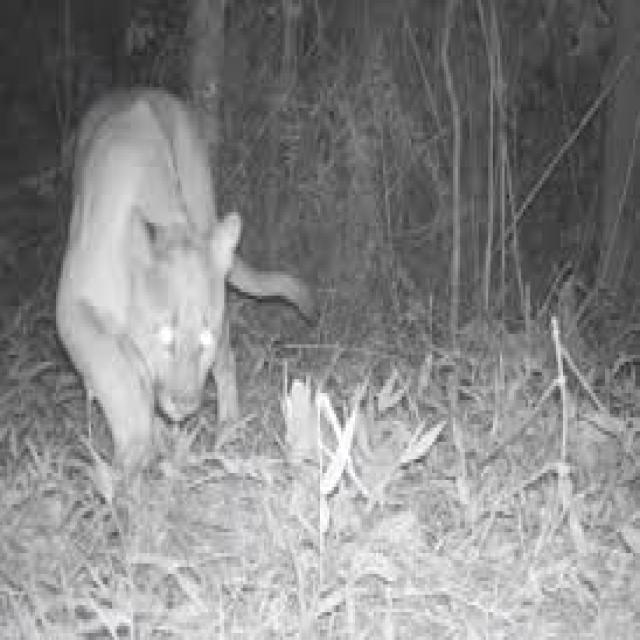Jaguar: (54, 73, 266, 442)
